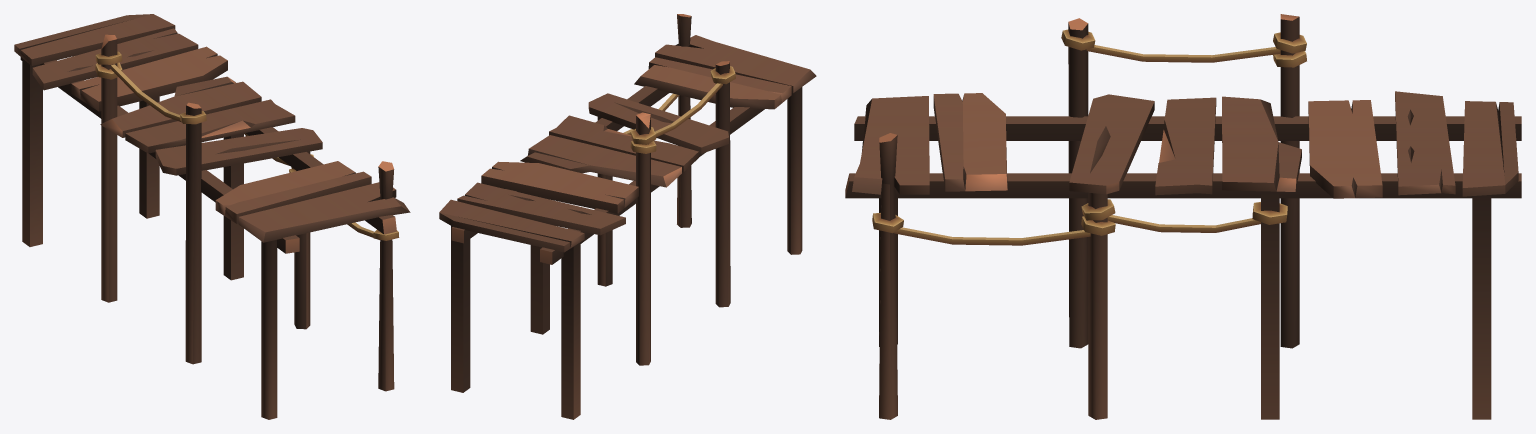
The model's file is Pier_1A.fbx.
3 renders of one model, left to right at view 1: azimuth 30°, elevation 25°; view 2: azimuth 150°, elevation 25°; view 3: azimuth 270°, elevation 25°, orthographic. The views are drawn at different scales.
Visible parts, largest first — view 1: Pier_1A; view 2: Pier_1A; view 3: Pier_1A.
Part boxes in pixels (x1=…): Pier_1A: x1=14, y1=14, x2=410, y2=419; Pier_1A: x1=439, y1=14, x2=816, y2=419; Pier_1A: x1=845, y1=14, x2=1521, y2=419.
Size of the model in its own units: 2.19 by 3.42 by 6.4.
